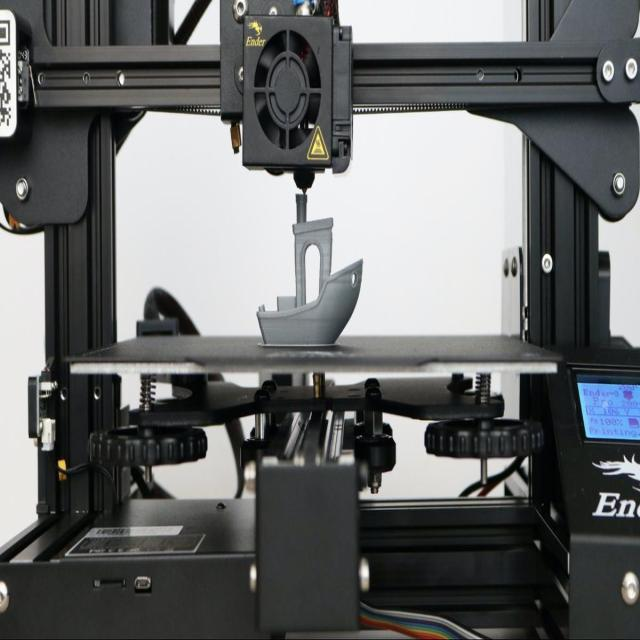Without deffect: (251, 182, 373, 352)
